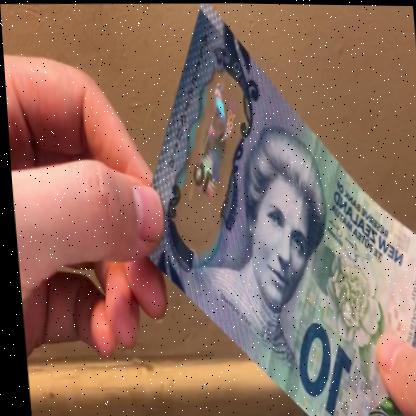10B: (179, 77, 245, 195)
